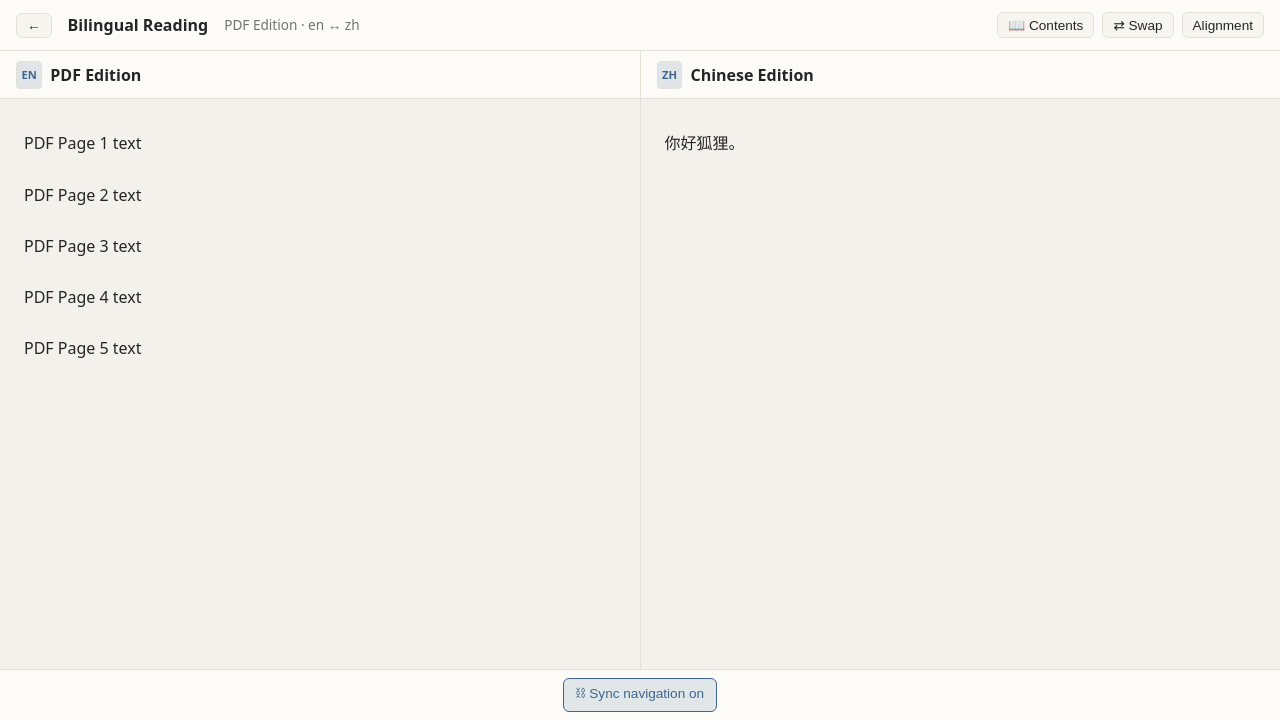
Test: BilingualReader › uses real PDF document outline when available in Contents drawer
Expected: the text "PDF Page 1 text" is shown, [24,132,142,359]
Step 1. Click the button "📖 Contents" → (1046, 25), box [997,12,1094,38]
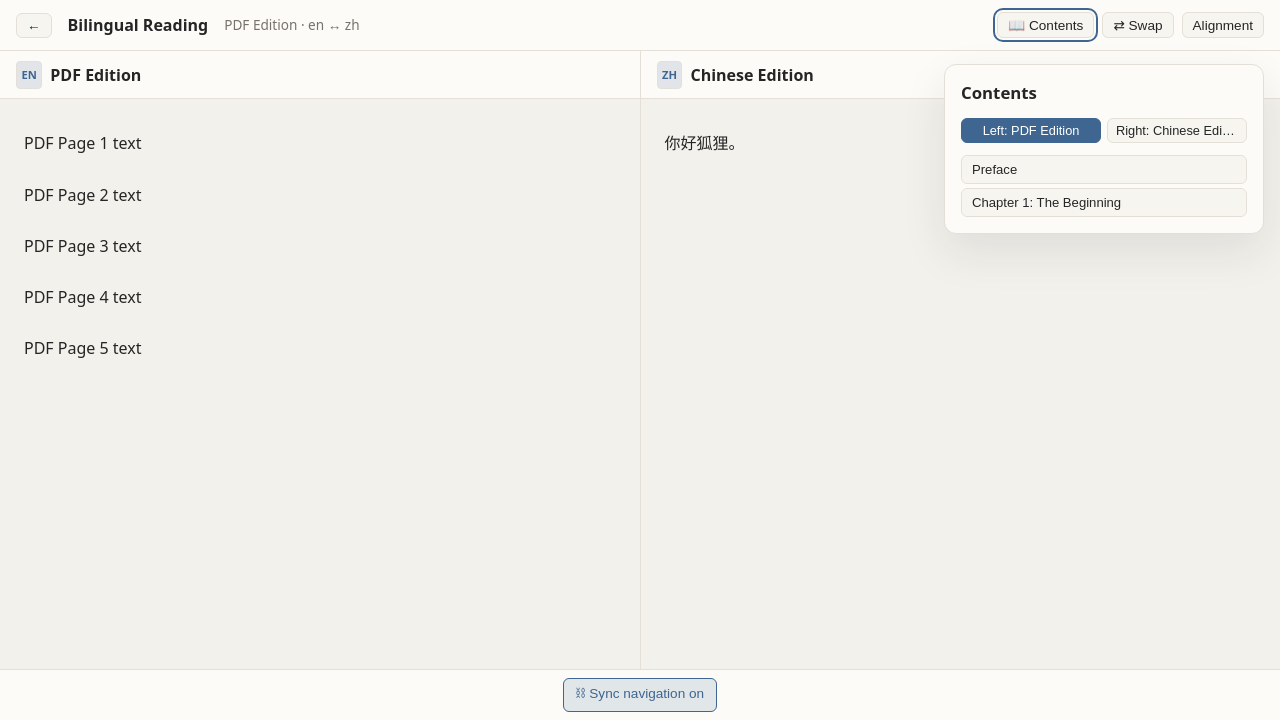
Now the element named "Book Contents" is shown, box [944,64,1264,234]
Now the button "Preface" is shown, box [961,155,1247,184]
Now the button "Chapter 1: The Beginning" is shown, box [961,188,1247,217]
